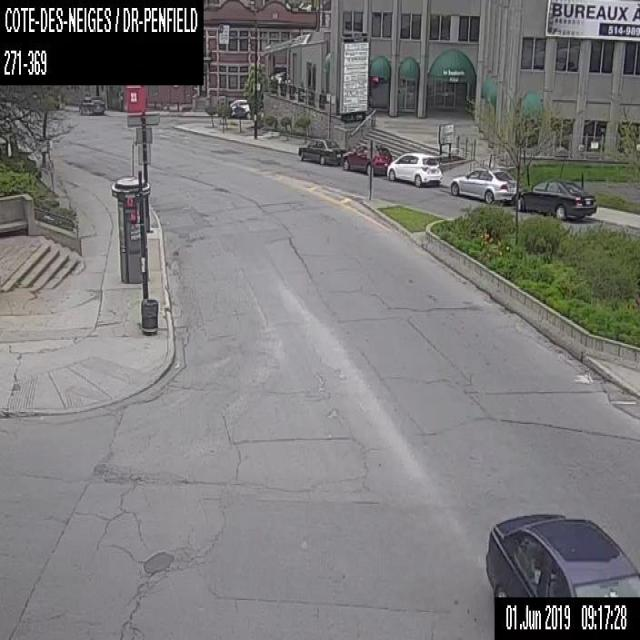vehicle: (485, 512, 639, 596), (518, 179, 596, 221), (449, 166, 516, 202), (386, 152, 442, 186), (342, 142, 392, 177), (297, 136, 345, 164), (78, 92, 104, 113), (228, 99, 250, 117)
